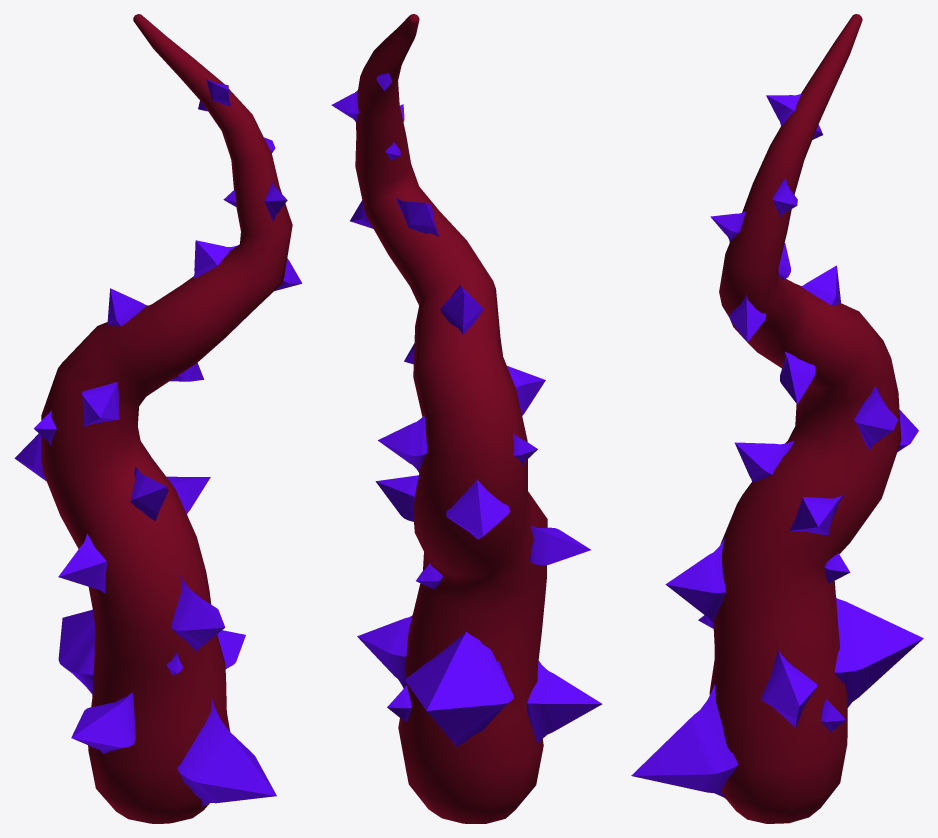
The model's file is bramble_01.fbx.
3 views of the same model, side by side, from view 1: azimuth 30°, elevation 25°; view 2: azimuth 150°, elevation 25°; view 3: azimuth 270°, elevation 25° (orthographic). The views are drawn at different scales.
Visible parts, largest first — view 1: bramble_01; view 2: bramble_01; view 3: bramble_01.
Part boxes in pixels (<box>): bramble_01: <box>14,14,302,823</box>; bramble_01: <box>331,14,602,823</box>; bramble_01: <box>631,14,923,823</box>.
Bounding box in the file's own units: 0.7353 × 2.31 × 0.7556.
